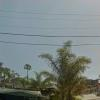Palm tree: (40, 33, 89, 100)
